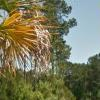Palm tree: (4, 1, 69, 70)
